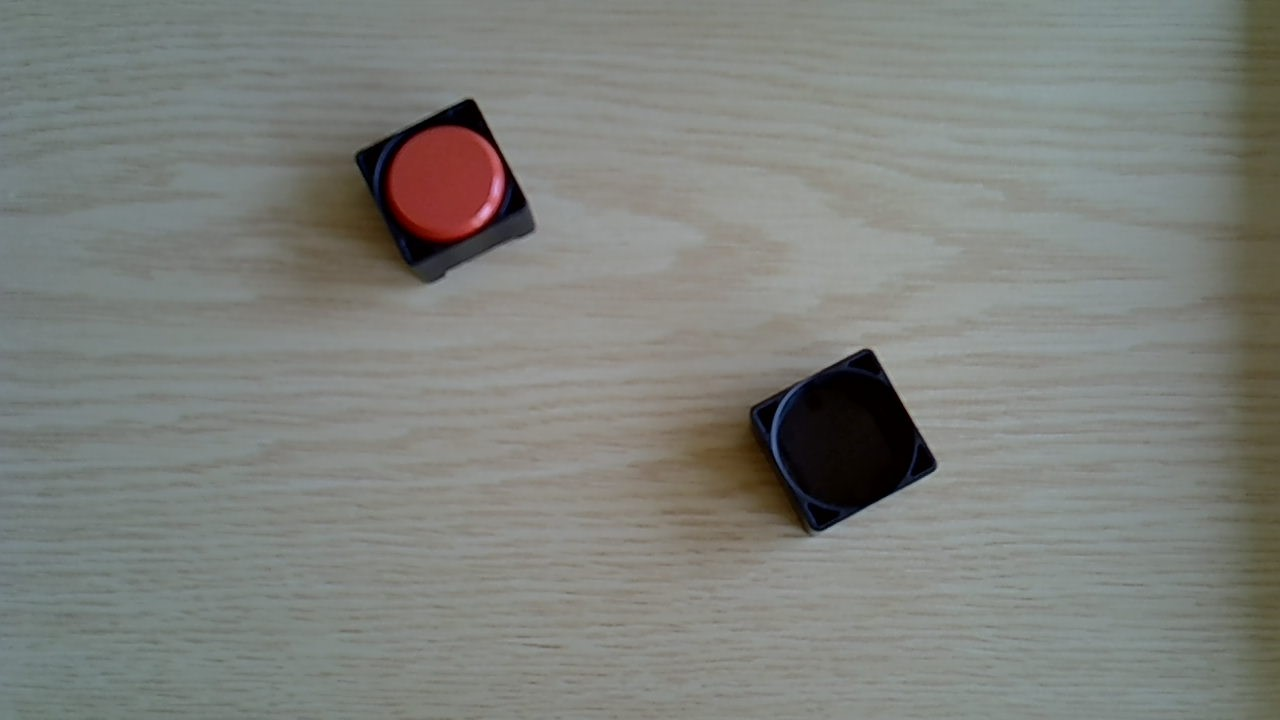Behaelter: (747, 346, 939, 540), (355, 99, 539, 284)
WerkStueck: (382, 124, 498, 239)
